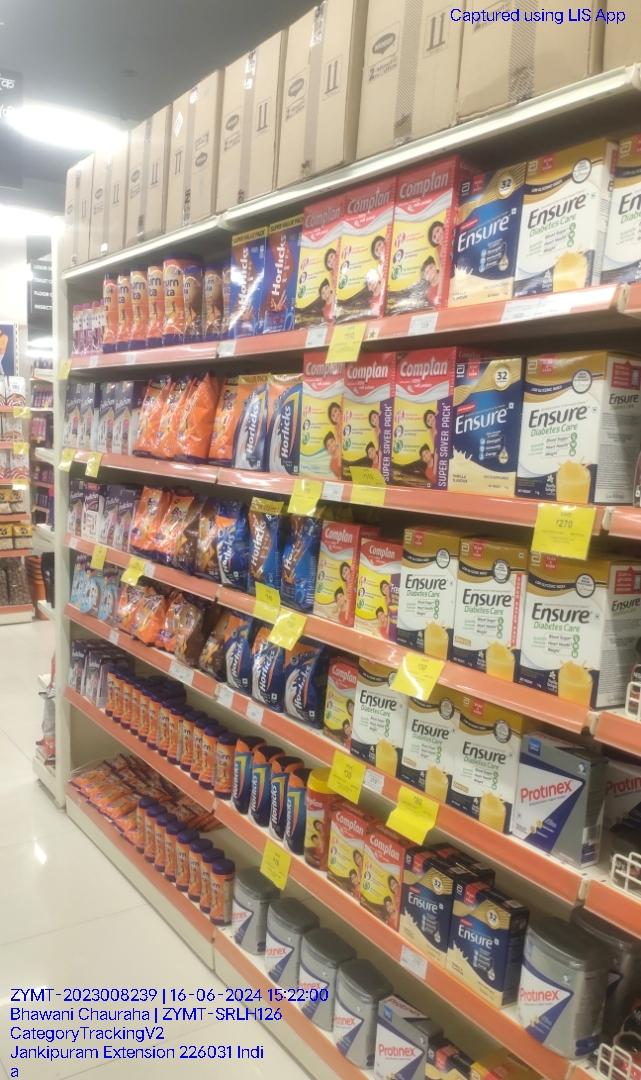ENSURE_VANILLA_400_G_PACK: (444, 154, 522, 306), (454, 351, 517, 489), (448, 897, 517, 994), (404, 849, 449, 955)
PROTINEX_ORIGINAL_400_G_JAR: (524, 924, 585, 1056), (336, 973, 367, 1065), (300, 938, 331, 1025), (268, 901, 294, 988), (234, 878, 257, 953)
